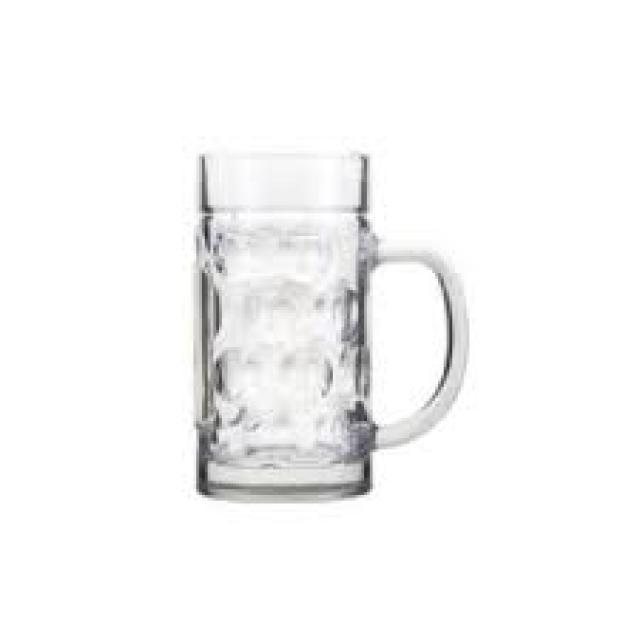Glass: (190, 150, 468, 504)
